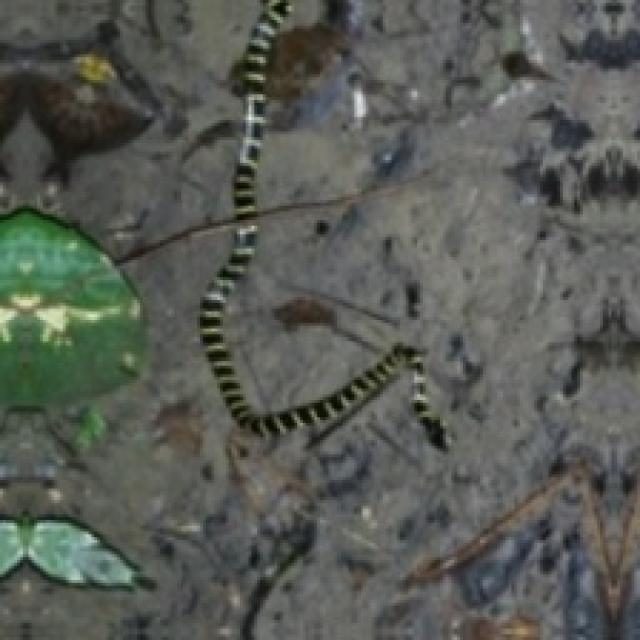mangrove cat snake: (200, 0, 446, 449)
